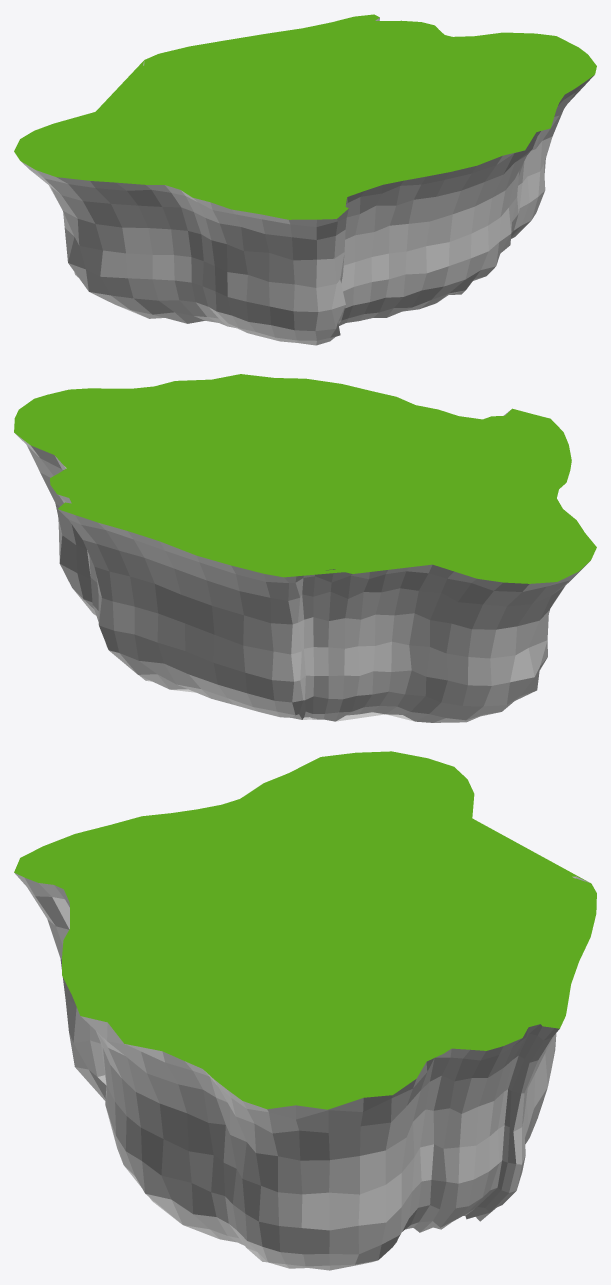
The model's file is island-base.fbx.
The picture shows the model from 3 angles, top to bottom: view 1: azimuth 30°, elevation 25°; view 2: azimuth 150°, elevation 25°; view 3: azimuth 270°, elevation 25°; orthographic projection. The views are drawn at different scales.
Parts seen in each view (by area): view 1: Vert.001, Vert; view 2: Vert.001, Vert; view 3: Vert.001, Vert.
Boxes of the visible parts, left/top/right/bottom form: Vert.001: left=14, top=14, right=596, bottom=219; Vert: left=21, top=18, right=594, bottom=345; Vert.001: left=14, top=374, right=596, bottom=583; Vert: left=15, top=410, right=590, bottom=722; Vert.001: left=14, top=751, right=596, bottom=1109; Vert: left=15, top=873, right=589, bottom=1270.
Bounding box in the file's own units: 32434 × 9879 × 22293.
